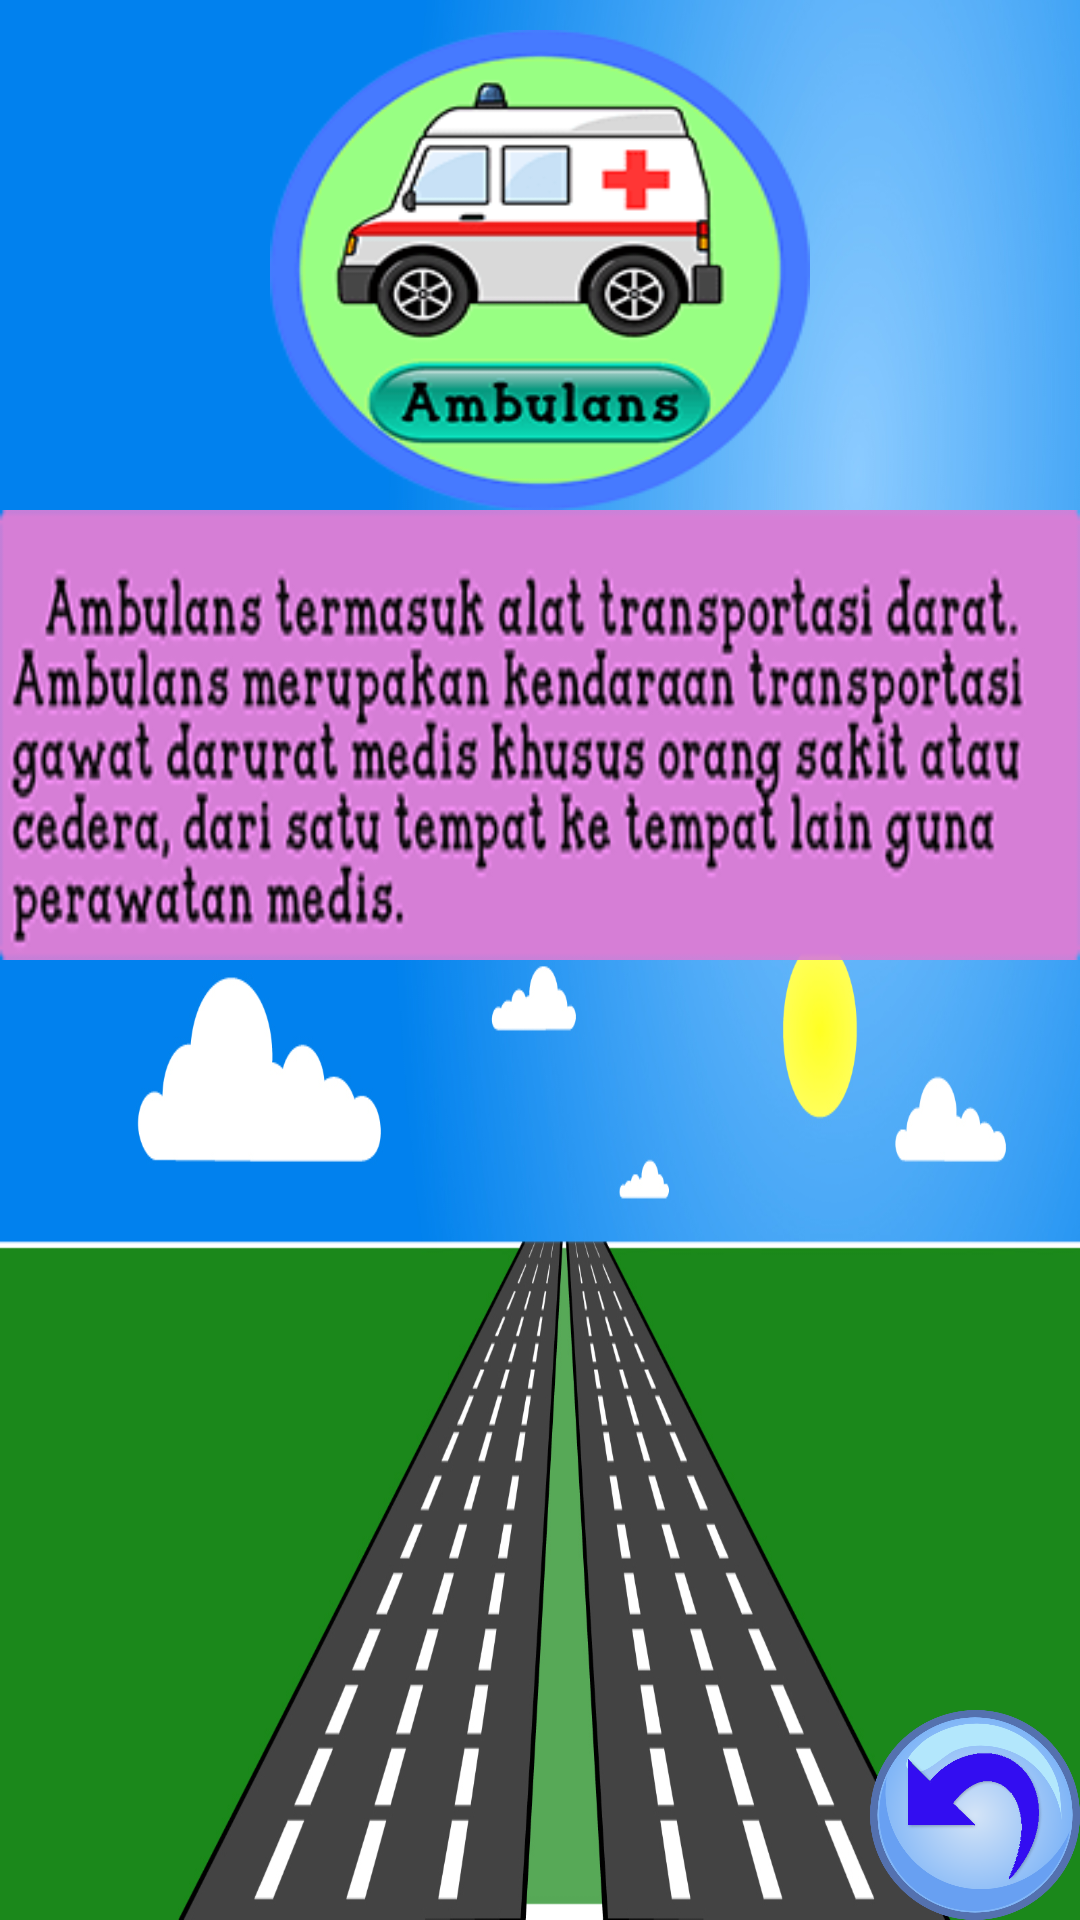

Icon click points for this 1080px×1920px phone screenshot, format point (x, y):
back: point (975, 1815)
